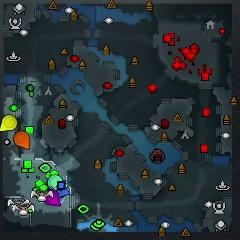p1: (55, 187, 72, 197)
p2: (48, 174, 63, 190)
p3: (45, 190, 61, 207)
p4: (0, 115, 17, 131)
p5: (14, 131, 30, 150)
